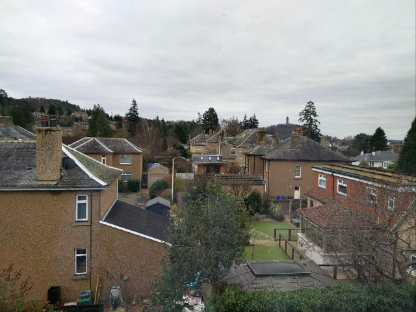tree: (310, 188, 416, 286), (151, 184, 247, 282), (85, 100, 115, 139), (295, 103, 324, 138), (399, 113, 416, 169), (123, 94, 146, 131), (199, 103, 225, 131), (12, 97, 34, 129), (368, 121, 391, 151), (243, 113, 259, 127), (48, 102, 57, 115), (39, 102, 47, 114)
